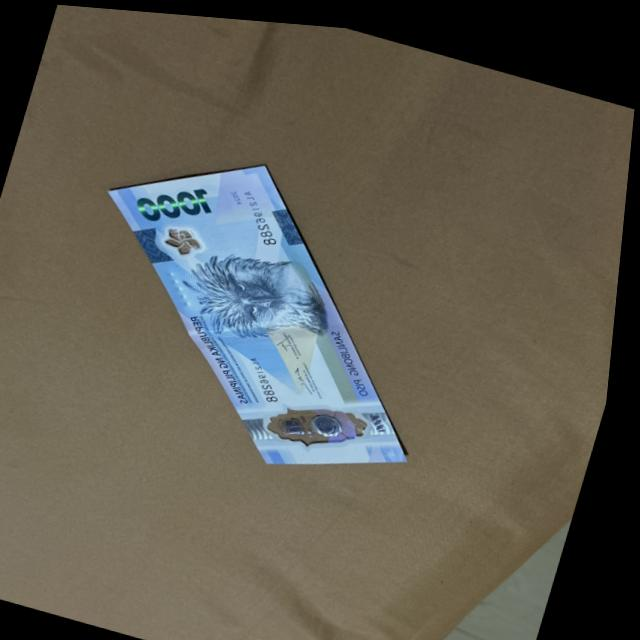clear_window: (266, 384, 386, 462)
eagle: (182, 239, 329, 348)
sampaguita: (160, 216, 212, 257)
serial_number: (225, 176, 289, 247), (235, 340, 296, 404)
